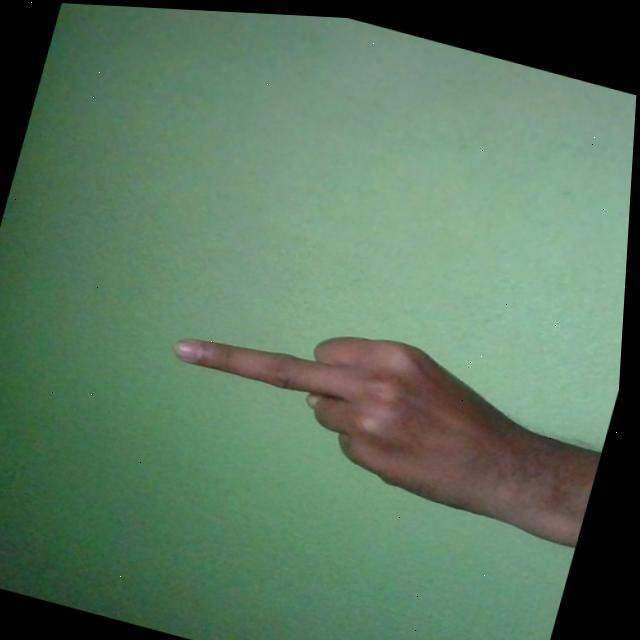Middle Finger: (150, 280, 607, 531)
